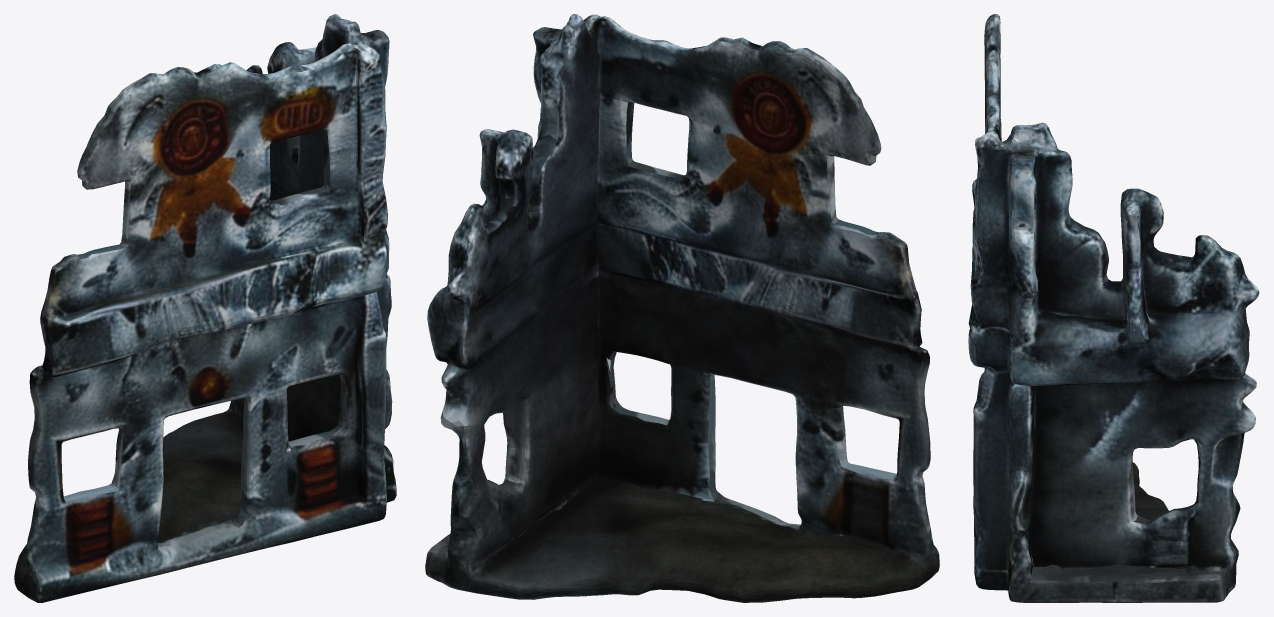
Rendered from ruin-facade.glb.
The picture shows the model from 3 angles, left to right: view 1: azimuth 30°, elevation 25°; view 2: azimuth 150°, elevation 25°; view 3: azimuth 270°, elevation 25°; orthographic projection. The views are drawn at different scales.
Parts seen in each view (by area): view 1: tmpuap0sysb.ply; view 2: tmpuap0sysb.ply; view 3: tmpuap0sysb.ply.
Part boxes in pixels (bbox=[...]): tmpuap0sysb.ply: bbox=[14, 14, 396, 602]; tmpuap0sysb.ply: bbox=[425, 14, 939, 602]; tmpuap0sysb.ply: bbox=[968, 14, 1259, 602].
Bounding box in the file's own units: 1 × 1.25 × 0.6983.
Materials: 1 (1 with a texture image).
